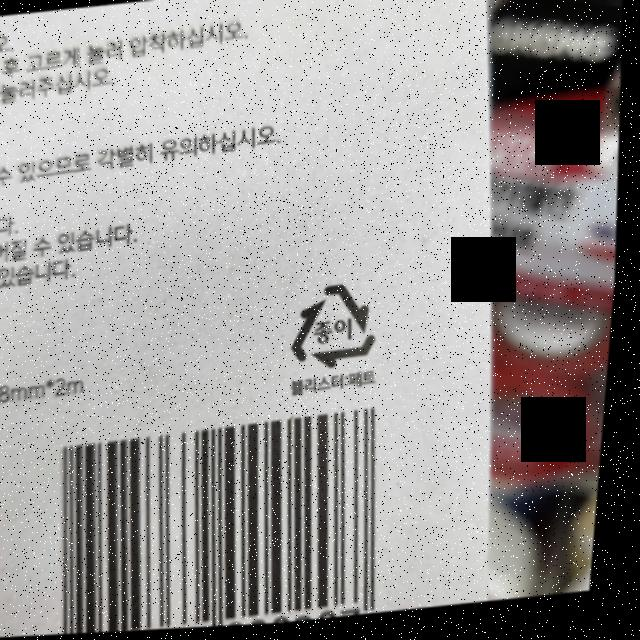Paper: (290, 280, 391, 378)
